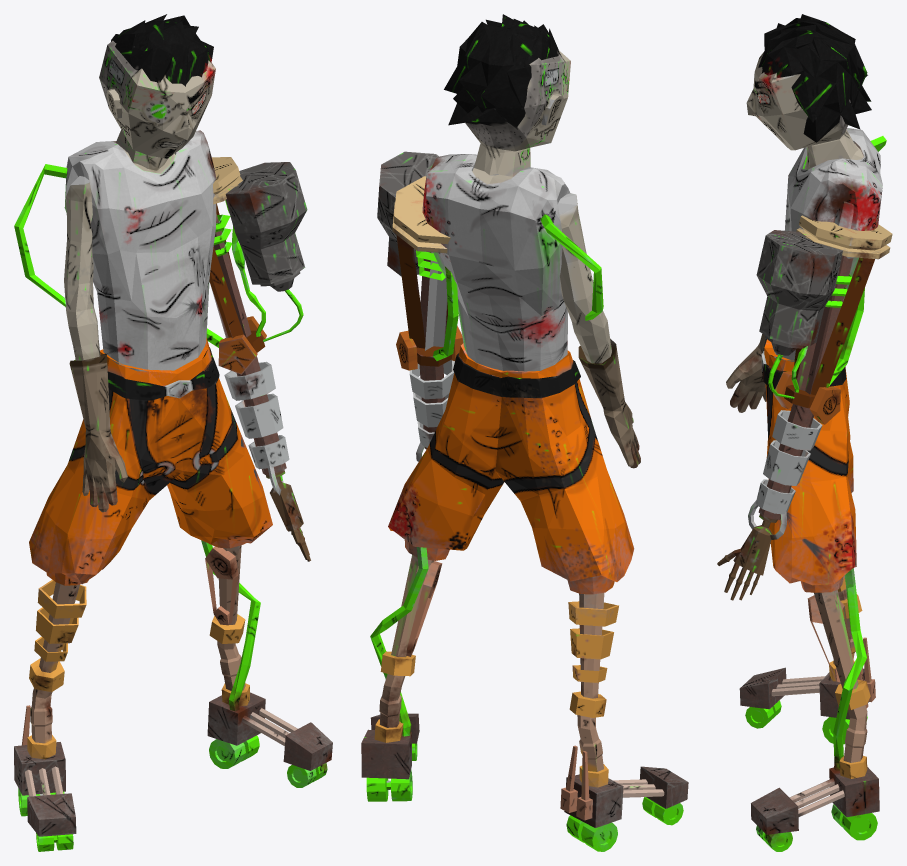
The model's file is CyborgFINALAnimation_000053.obj.
3 renders of one model, left to right at view 1: azimuth 30°, elevation 25°; view 2: azimuth 150°, elevation 25°; view 3: azimuth 270°, elevation 25°, orthographic. The views are drawn at different scales.
Parts seen in each view (by area): view 1: CyborgMesh_Cube.002; view 2: CyborgMesh_Cube.002; view 3: CyborgMesh_Cube.002.
Boxes of the visible parts, x1,y1,x2,y2 form: CyborgMesh_Cube.002: (14, 14, 332, 851); CyborgMesh_Cube.002: (361, 14, 688, 851); CyborgMesh_Cube.002: (717, 14, 892, 851).
Bounding box in the file's own units: 3.86 × 9.65 × 2.
